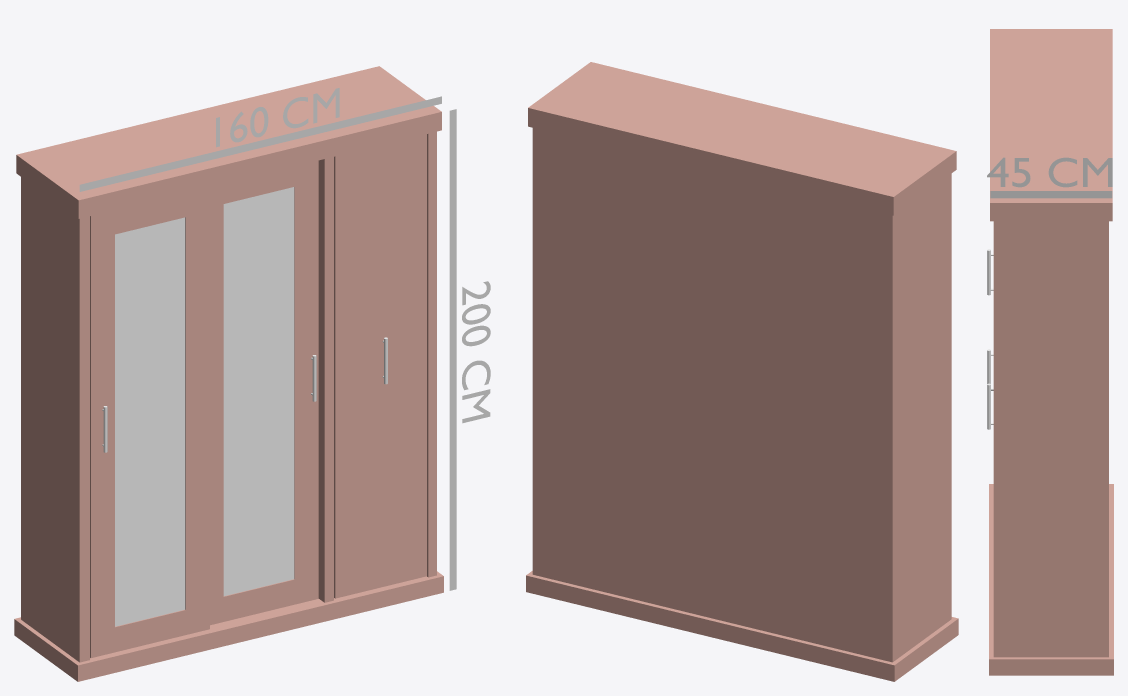
Rendered from Lemari_Pink_Yudi.glb.
3 views of the same model, side by side, from view 1: azimuth 30°, elevation 25°; view 2: azimuth 150°, elevation 25°; view 3: azimuth 270°, elevation 25° (orthographic). The views are drawn at different scales.
Parts seen in each view (by area): view 1: Cube, Plane, Plane.001, Text, Text.001; view 2: Cube; view 3: Cube, Text.002, Plane.002, Cylinder.
Part boxes in pixels (x1=…): Cube: x1=14, y1=66, x2=443, y2=681; Plane: x1=449, y1=109, x2=456, y2=590; Plane.001: x1=79, y1=96, x2=441, y2=191; Text: x1=462, y1=281, x2=490, y2=423; Text.001: x1=216, y1=88, x2=339, y2=147; Cube: x1=526, y1=62, x2=958, y2=681; Cube: x1=989, y1=29, x2=1113, y2=675; Text.002: x1=987, y1=157, x2=1112, y2=187; Plane.002: x1=990, y1=191, x2=1112, y2=198; Cylinder: x1=987, y1=249, x2=993, y2=429.
Size of the model in its own units: 7.48 by 9.2 by 2.03.
